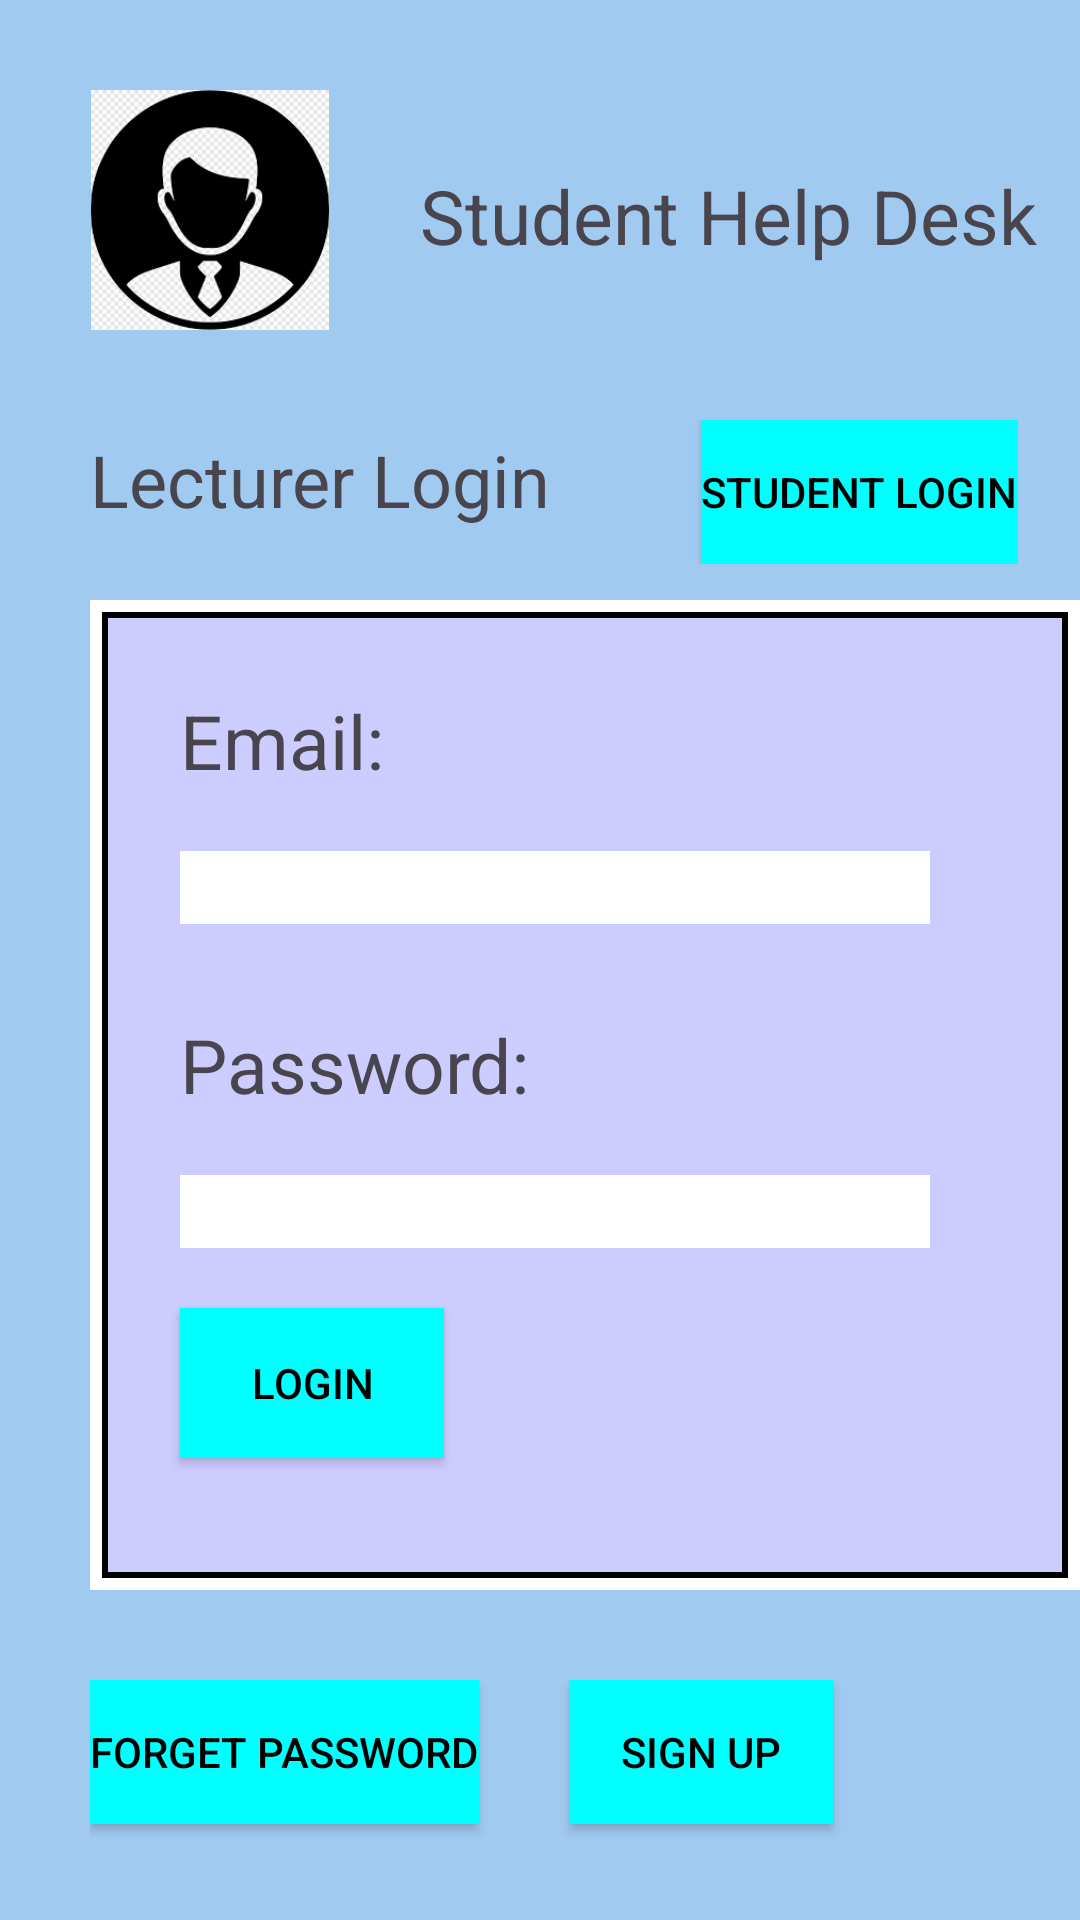

Icons on this 1080*1920 Android screen, each with its box as (x1, y1, x2, y2):
profile: (91, 90, 329, 330)
